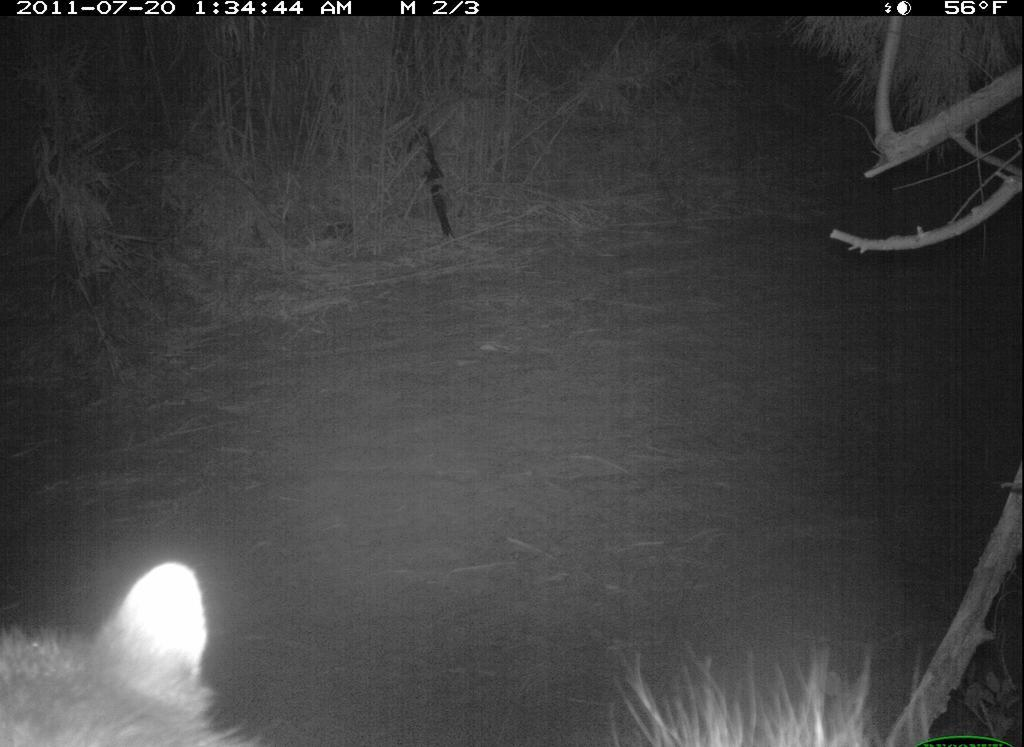raccoon: (1, 546, 921, 746)
